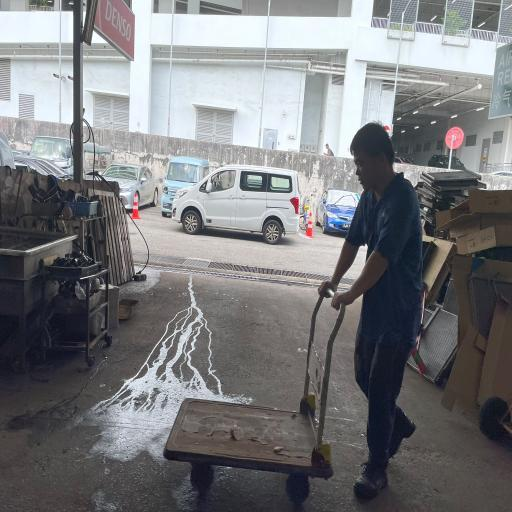person_left: (164, 122, 423, 505)
